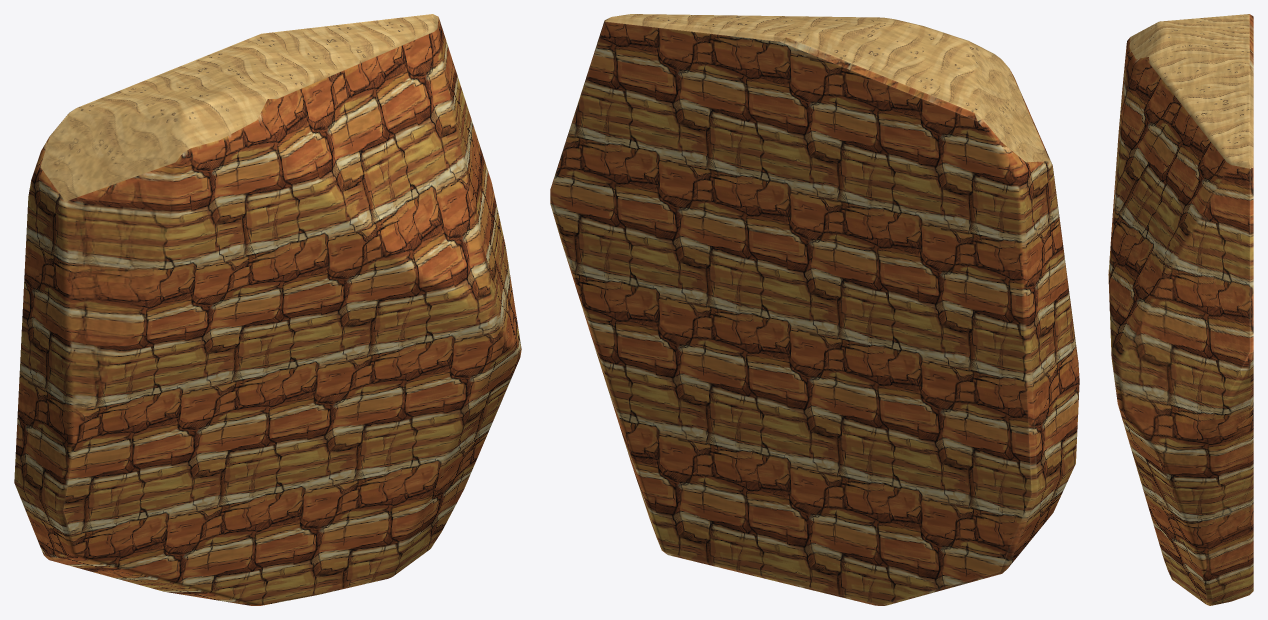
File: v4_cliff_e_05.glb
The picture shows the model from 3 angles, left to right: view 1: azimuth 30°, elevation 25°; view 2: azimuth 150°, elevation 25°; view 3: azimuth 270°, elevation 25°; orthographic projection. The views are drawn at different scales.
Parts seen in each view (by area): view 1: v4_cliff_e_05; view 2: v4_cliff_e_05; view 3: v4_cliff_e_05.
Boxes of the visible parts, x1,y1,x2,y2 form: v4_cliff_e_05: (14, 14, 521, 605); v4_cliff_e_05: (550, 14, 1079, 605); v4_cliff_e_05: (1108, 14, 1253, 605).
Size of the model in its own units: 7.43 by 7.96 by 2.19.
1 material, 1 textured.
